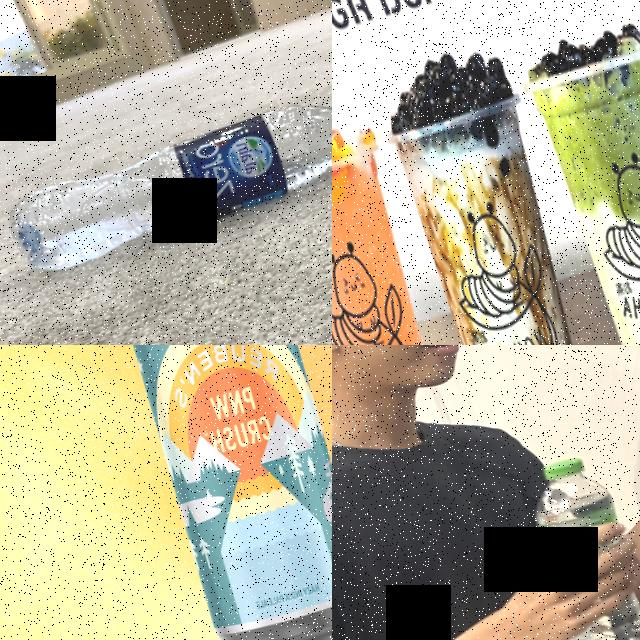bottle: (0, 77, 332, 281), (510, 445, 640, 640)
can: (71, 345, 332, 640)
cup: (382, 88, 617, 345), (522, 34, 640, 345), (332, 136, 474, 345)
